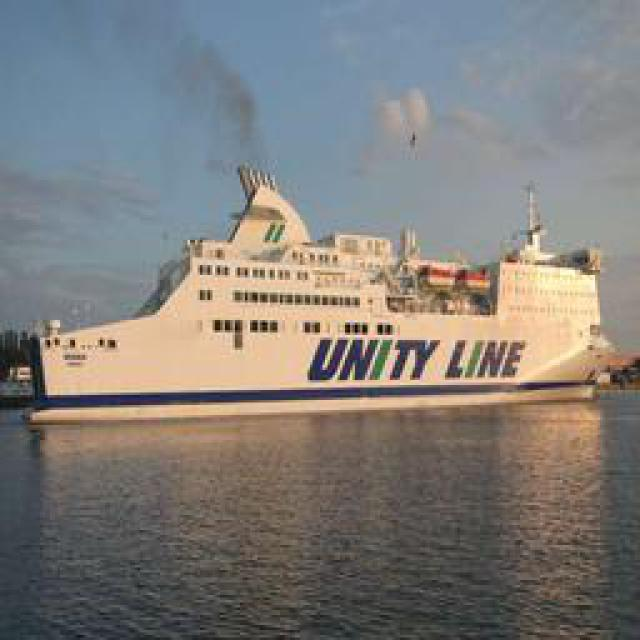Ship: (31, 161, 619, 416)
